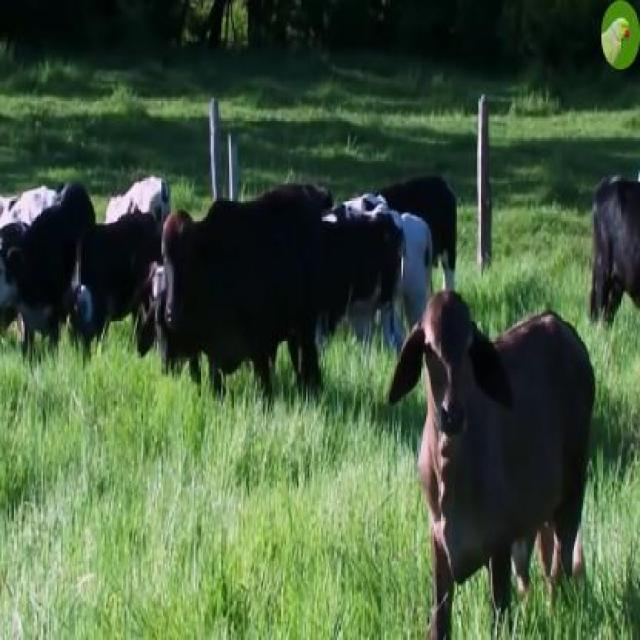Cow: (390, 292, 598, 638)
